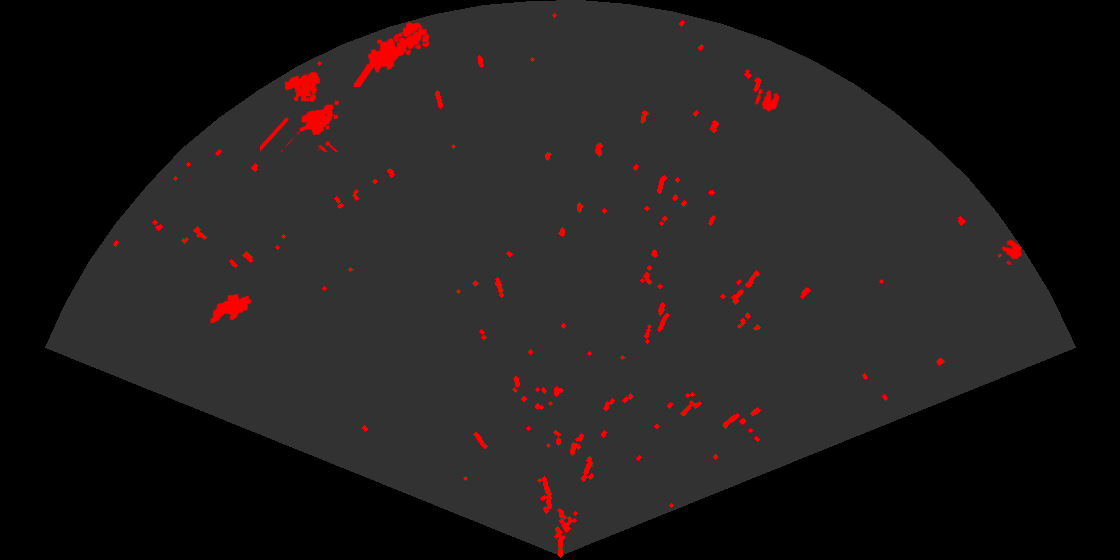AUV: (209, 292, 253, 325)
ball: (393, 21, 431, 57), (996, 238, 1024, 267), (753, 87, 781, 114)
cage: (260, 70, 341, 152)
frogman: (354, 27, 429, 87)
